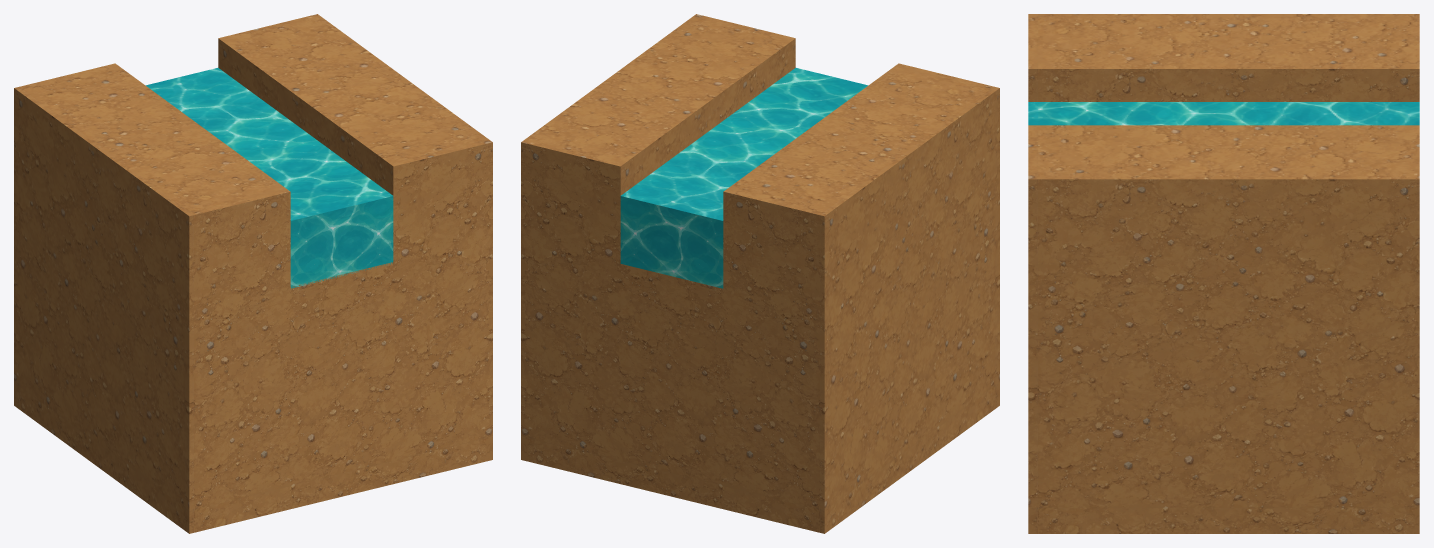
The picture shows the model from 3 angles, left to right: view 1: azimuth 30°, elevation 25°; view 2: azimuth 150°, elevation 25°; view 3: azimuth 270°, elevation 25°; orthographic projection. The views are drawn at different scales.
Parts seen in each view (by area): view 1: 10; view 2: 10; view 3: 10.
Boxes of the visible parts, <box> form: 10: <box>14,14,492,533</box>; 10: <box>521,14,999,533</box>; 10: <box>1028,14,1419,533</box>.
Size of the model in its own units: 100 by 100 by 100.
2 materials, 2 textured.
